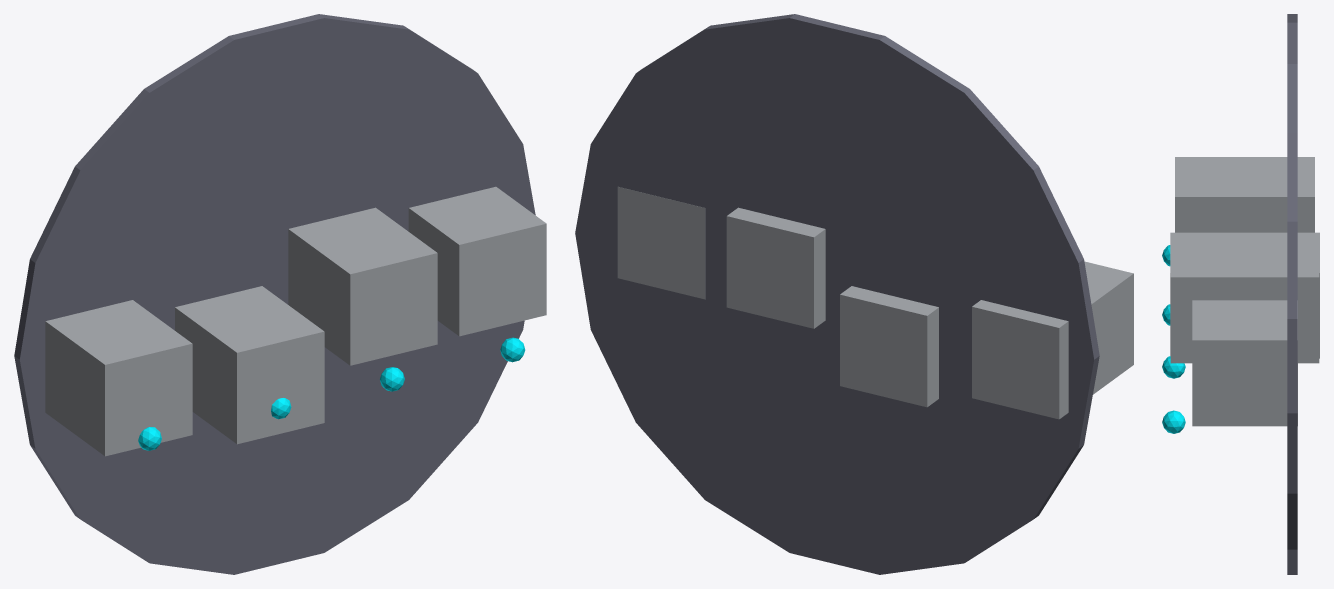
File: 04_event_hazard_cluster.glb
3 views of the same model, side by side, from view 1: azimuth 30°, elevation 25°; view 2: azimuth 150°, elevation 25°; view 3: azimuth 270°, elevation 25° (orthographic). The views are drawn at different scales.
Visible parts, largest first — view 1: scatter_base, tech_crate_2, tech_crate_0, tech_crate_1, tech_crate_3; view 2: scatter_base, tech_crate_0, tech_crate_2, tech_crate_1, tech_crate_3; view 3: tech_crate_3, tech_crate_2, tech_crate_0, scatter_base, tech_crate_1, status_light_3, status_light_2.
Part boxes in pixels (x1,y1,x2,y2): scatter_base: [14, 14, 535, 574]; tech_crate_2: [288, 207, 437, 365]; tech_crate_0: [45, 300, 192, 456]; tech_crate_1: [175, 286, 324, 444]; tech_crate_3: [408, 186, 546, 336]; scatter_base: [575, 14, 1099, 574]; tech_crate_0: [972, 261, 1133, 419]; tech_crate_2: [726, 207, 825, 328]; tech_crate_1: [840, 286, 938, 407]; tech_crate_3: [617, 186, 705, 299]; tech_crate_3: [1192, 300, 1297, 426]; tech_crate_2: [1170, 237, 1319, 363]; tech_crate_0: [1175, 157, 1314, 232]; scatter_base: [1287, 14, 1297, 574]; tech_crate_1: [1170, 232, 1319, 358]; status_light_3: [1162, 410, 1185, 433]; status_light_2: [1162, 356, 1185, 378].
Size of the model in its own units: 1.9 by 1.87 by 0.5324.
